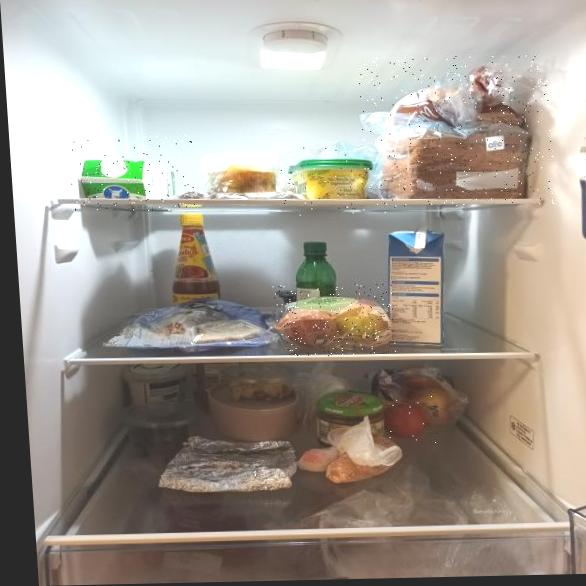apples: (271, 283, 396, 358)
bread: (357, 54, 556, 208)
butter: (279, 142, 387, 217)
milk: (65, 135, 196, 213)
tomatoes: (382, 395, 440, 452)
